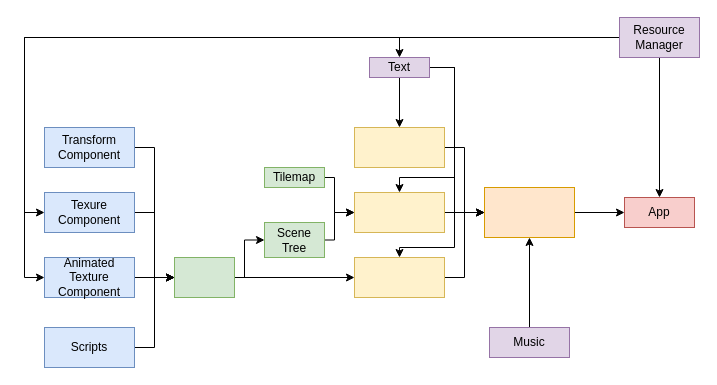
Some shapes in this 717 by 385 pixel diagram are drawn without their labels. Here are the shapes that lost their labels. From the top down, the centre of each, then its label:
At [399,147]: "Home Scene".
At [399,212]: "Game Scene".
At [529,212]: "Game Application".
At [204,277]: "Game Object".
At [399,277]: "Trophy Scene".
